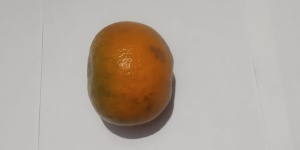BAD: (84, 18, 176, 133)
